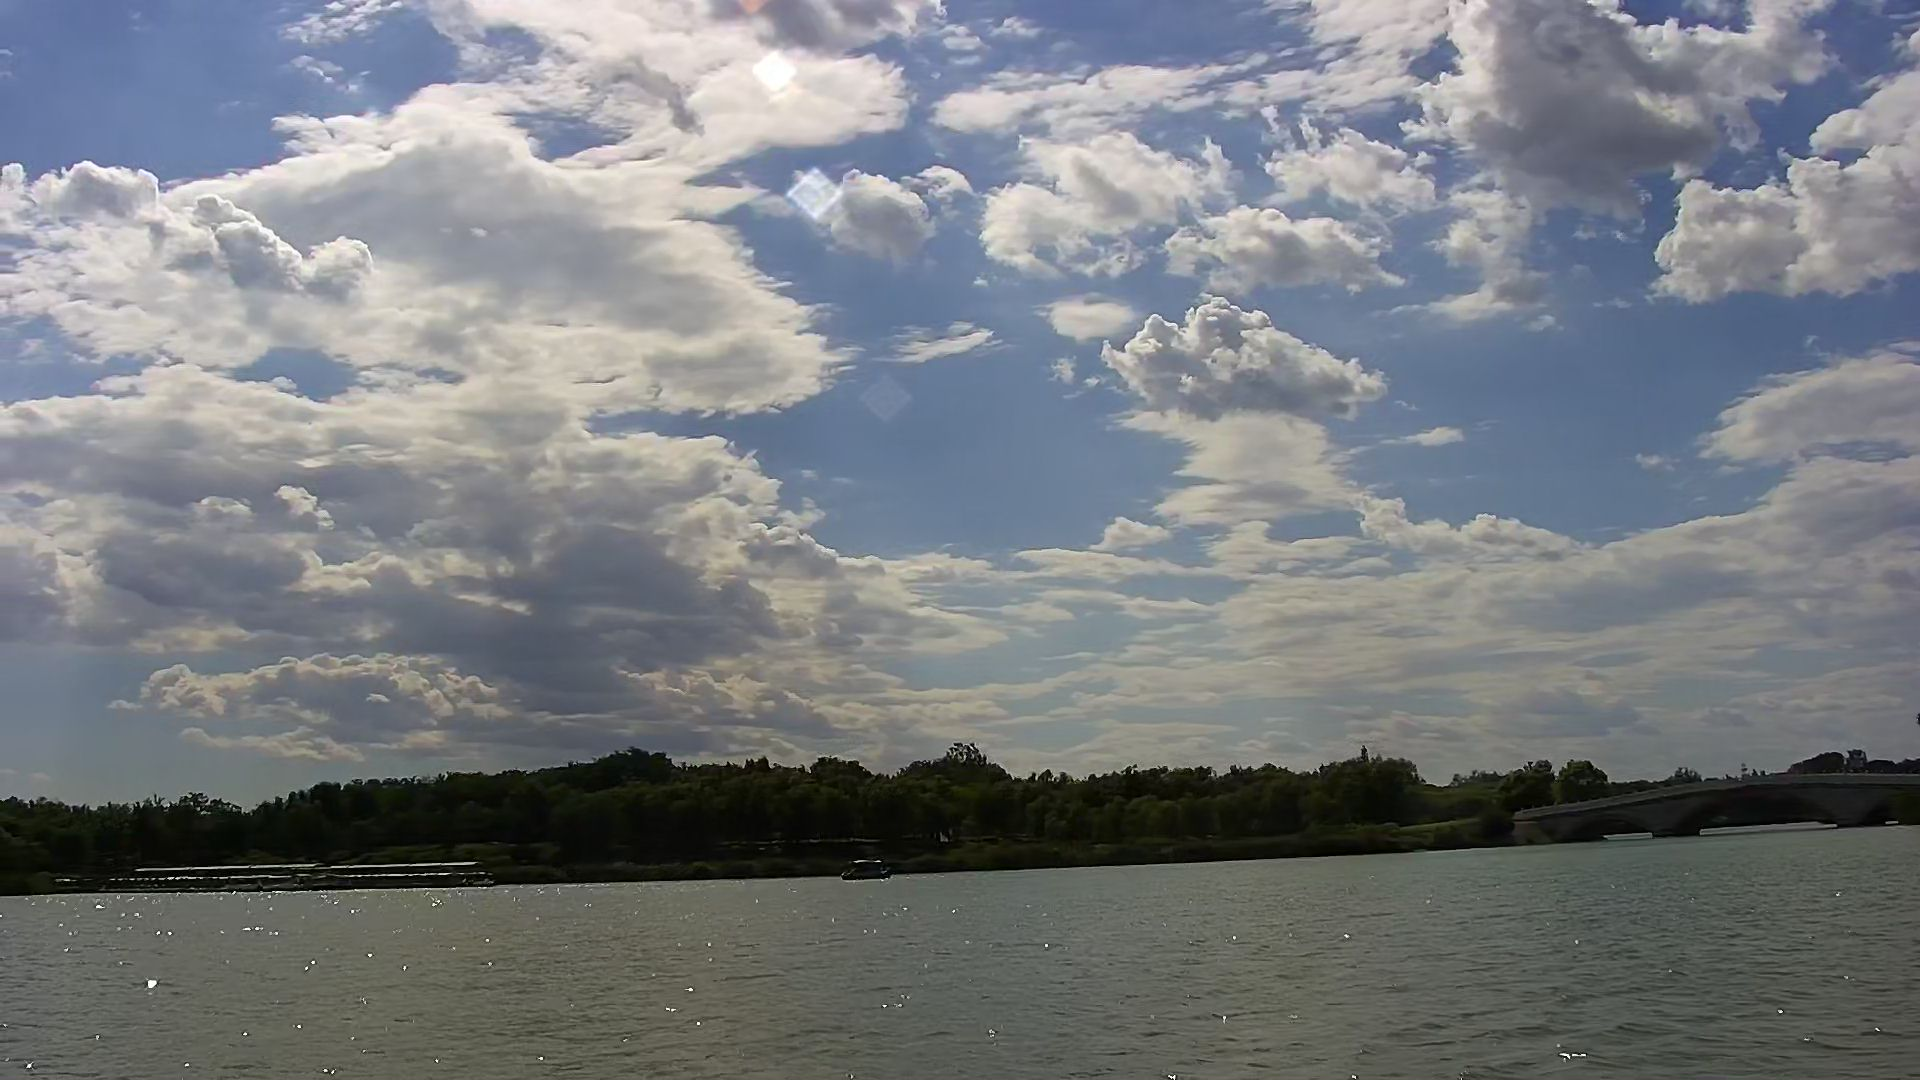boat: (833, 855, 895, 884)
bridge: (1520, 766, 1920, 841)
harbor: (124, 855, 500, 890)
